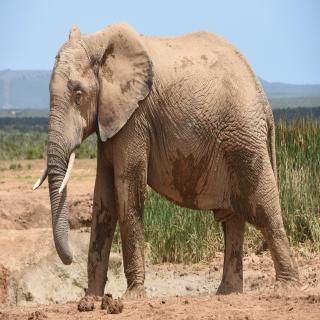Elephant: (30, 18, 303, 304)
